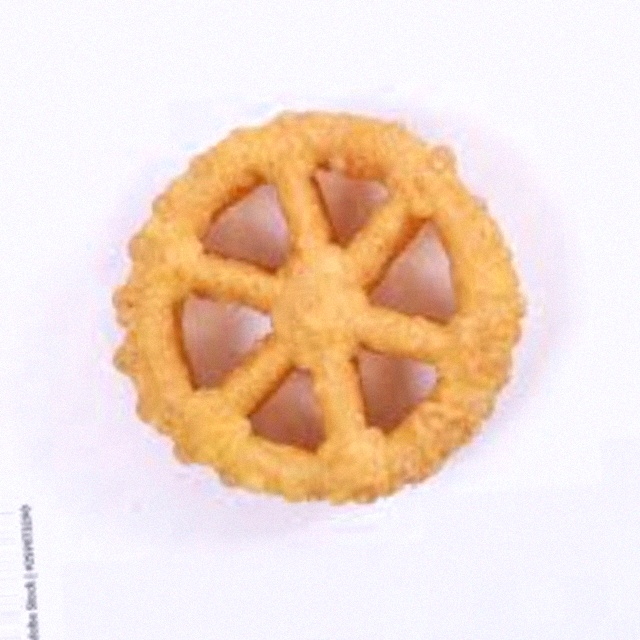Kokis: (127, 95, 513, 545)
